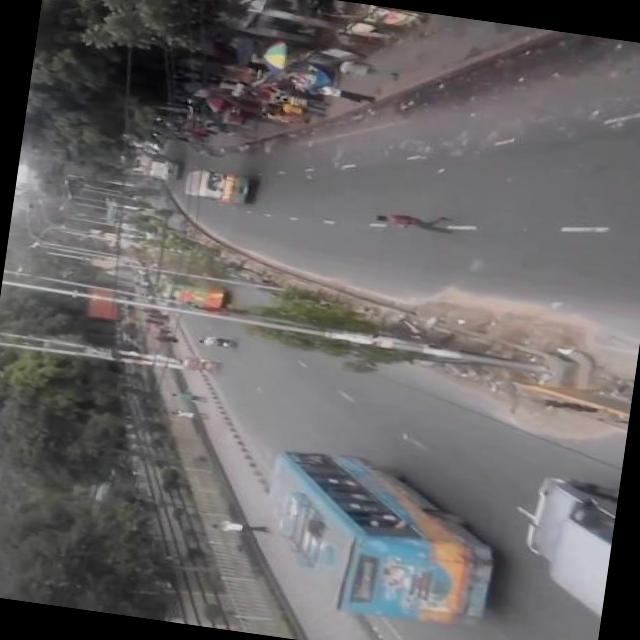bus: (247, 442, 514, 636), (180, 164, 260, 210), (132, 152, 184, 184)
motorcycle: (174, 354, 227, 378), (194, 334, 240, 353)
